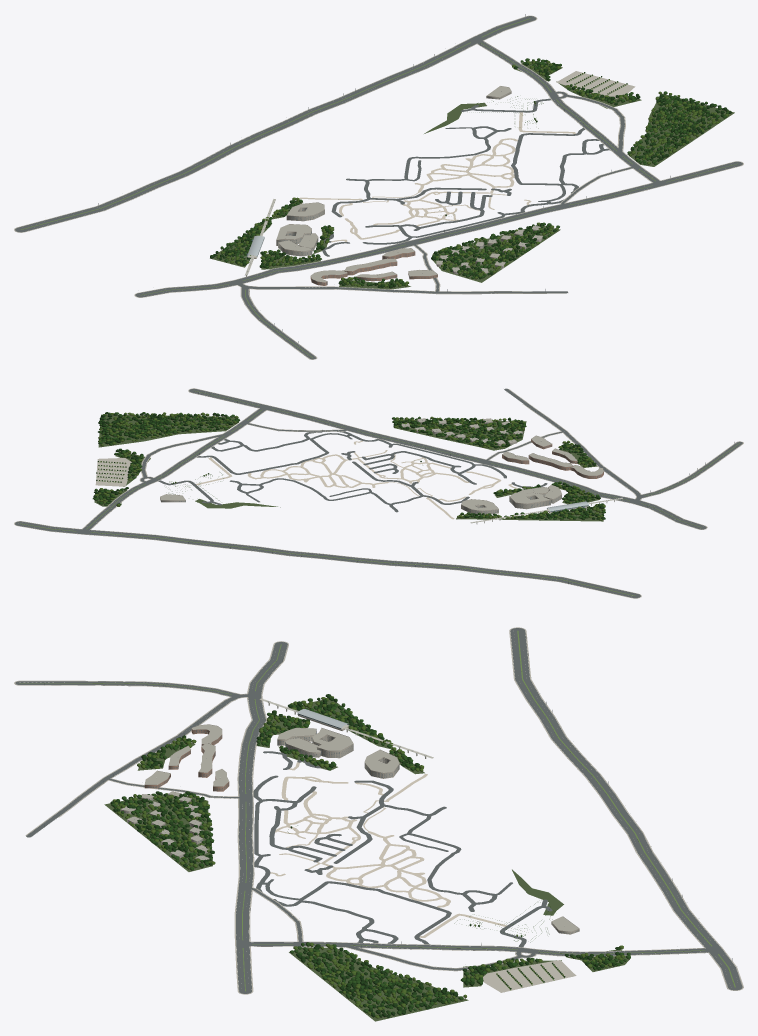
The model's file is venue-site-detail.glb.
3 renders of one model, top to bottom at view 1: azimuth 30°, elevation 25°; view 2: azimuth 150°, elevation 25°; view 3: azimuth 270°, elevation 25°, orthographic. The views are drawn at different scales.
Visible parts, largest first — view 1: SITE_ROAD_asphalt_000, SITE_ROAD_footpaths_000, SITE_ROAD_serviceRoads_002, SITE_nearby_planted_ground_06, SITE_ROAD_serviceRoads_003, SITE_ROAD_walkways_007, SITE_eastern_parking_ground, SITE_nearby_planted_ground_04, SITE_ROAD_walkways_005, SITE_ROAD_medians_000; view 2: SITE_ROAD_asphalt_000, SITE_ROAD_footpaths_000, SITE_ROAD_serviceRoads_002, SITE_nearby_planted_ground_06, SITE_ROAD_serviceRoads_003, SITE_ROAD_walkways_007, SITE_eastern_parking_ground, SITE_nearby_planted_ground_04, SITE_ROAD_medians_000, SITE_ROAD_walkways_005, SITE_nearby_planted_ground_00; view 3: SITE_ROAD_asphalt_000, SITE_ROAD_footpaths_000, SITE_ROAD_serviceRoads_002, SITE_nearby_planted_ground_06, SITE_ROAD_serviceRoads_003, SITE_ROAD_walkways_007, SITE_eastern_parking_ground, SITE_nearby_planted_ground_04, SITE_ROAD_walkways_005.
Boxes of the visible parts, <box> form: SITE_ROAD_asphalt_000: <box>15,16,742,359</box>; SITE_ROAD_footpaths_000: <box>14,15,743,359</box>; SITE_ROAD_serviceRoads_002: <box>362,127,610,244</box>; SITE_nearby_planted_ground_06: <box>627,93,734,166</box>; SITE_ROAD_serviceRoads_003: <box>331,126,511,217</box>; SITE_ROAD_walkways_007: <box>372,138,517,197</box>; SITE_eastern_parking_ground: <box>556,71,635,98</box>; SITE_nearby_planted_ground_04: <box>432,226,560,282</box>; SITE_ROAD_walkways_005: <box>373,191,479,226</box>; SITE_ROAD_medians_000: <box>21,42,470,229</box>; SITE_ROAD_asphalt_000: <box>15,388,742,598</box>; SITE_ROAD_footpaths_000: <box>14,388,743,598</box>; SITE_ROAD_serviceRoads_002: <box>197,431,506,484</box>; SITE_nearby_planted_ground_06: <box>98,414,238,447</box>; SITE_ROAD_serviceRoads_003: <box>229,461,469,512</box>; SITE_ROAD_walkways_007: <box>247,454,419,495</box>; SITE_eastern_parking_ground: <box>95,458,131,486</box>; SITE_nearby_planted_ground_04: <box>394,419,526,450</box>; SITE_ROAD_medians_000: <box>91,532,635,596</box>; SITE_ROAD_walkways_005: <box>375,454,469,483</box>; SITE_nearby_planted_ground_00: <box>500,507,604,521</box>; SITE_ROAD_asphalt_000: <box>15,628,742,993</box>; SITE_ROAD_footpaths_000: <box>14,627,743,994</box>; SITE_ROAD_serviceRoads_002: <box>253,775,451,944</box>; SITE_nearby_planted_ground_06: <box>289,947,468,1021</box>; SITE_ROAD_serviceRoads_003: <box>333,780,512,911</box>; SITE_ROAD_walkways_007: <box>326,807,450,907</box>; SITE_eastern_parking_ground: <box>483,960,576,992</box>; SITE_nearby_planted_ground_04: <box>104,794,212,871</box>; SITE_ROAD_walkways_005: <box>275,791,360,847</box>.
Bounding box in the file's own units: 2254 × 20.04 × 1764.
